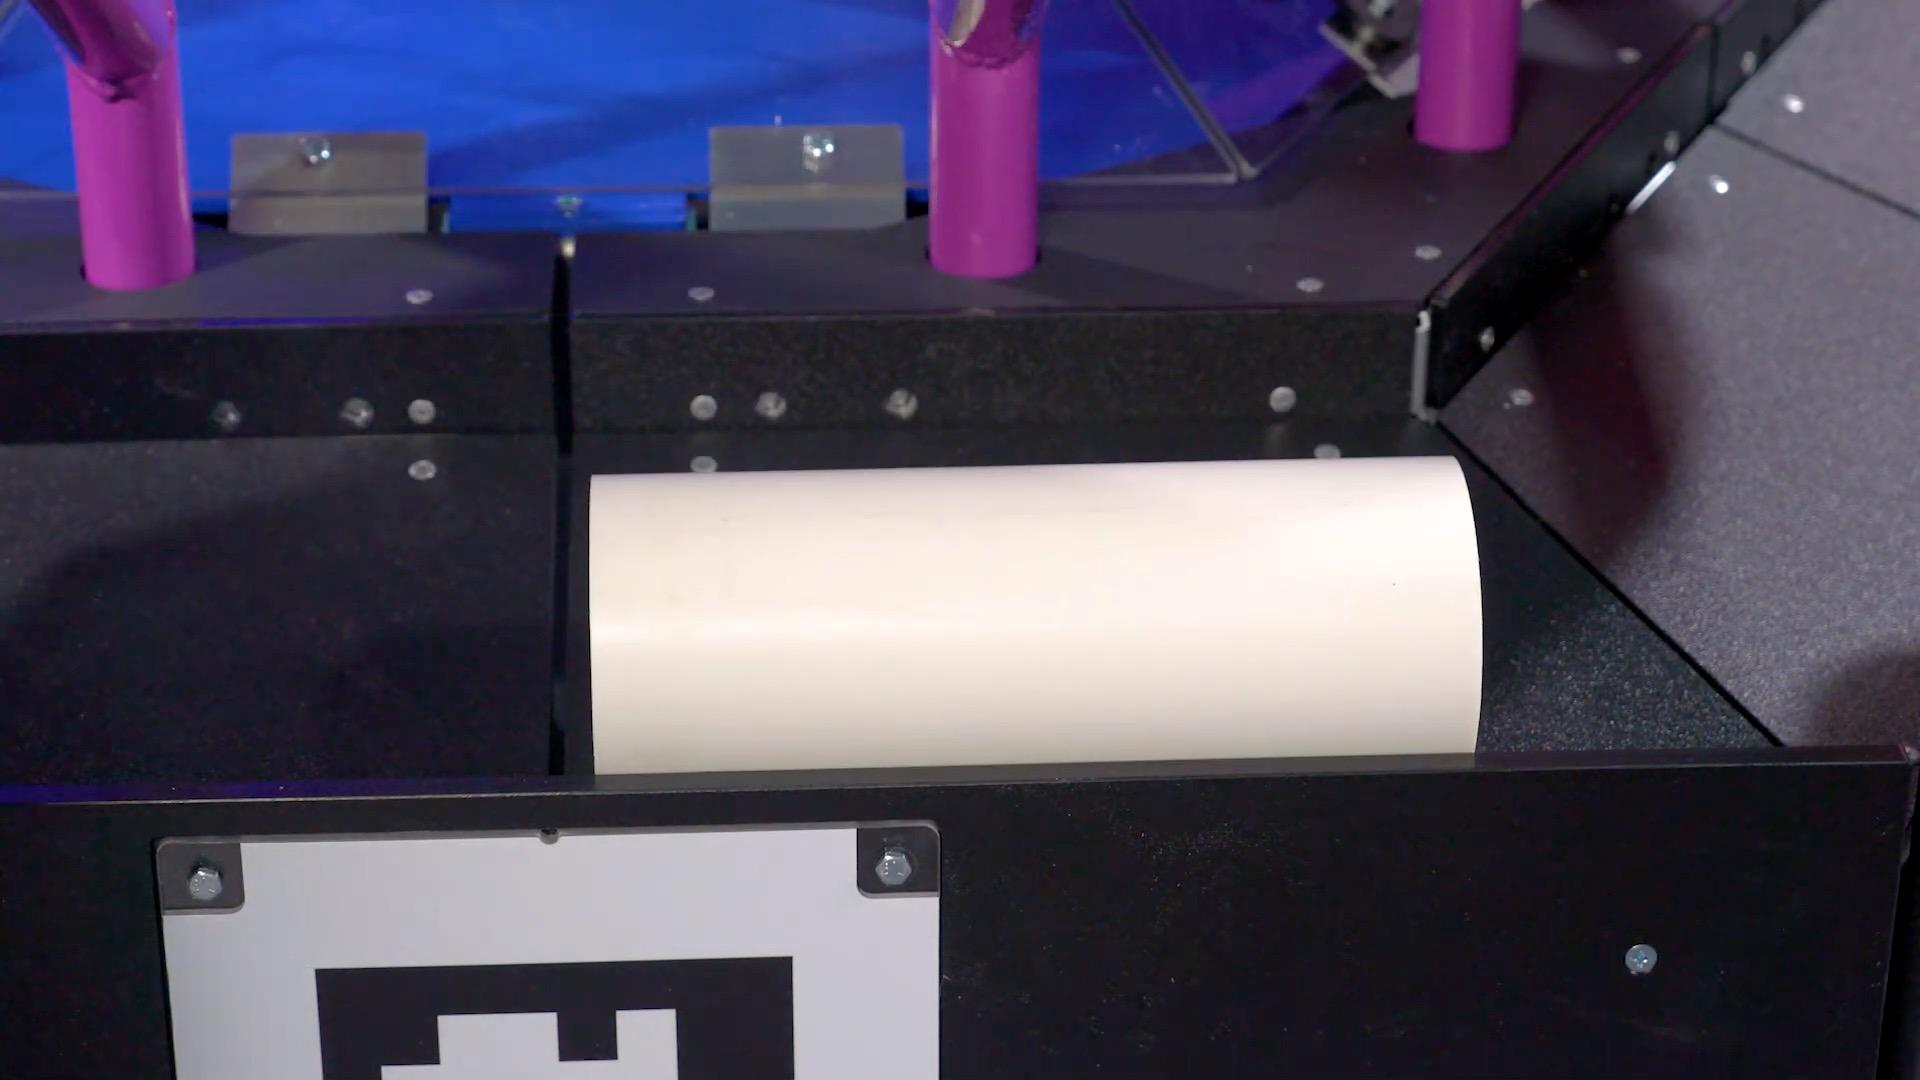CORAL: (584, 452, 1485, 775)
